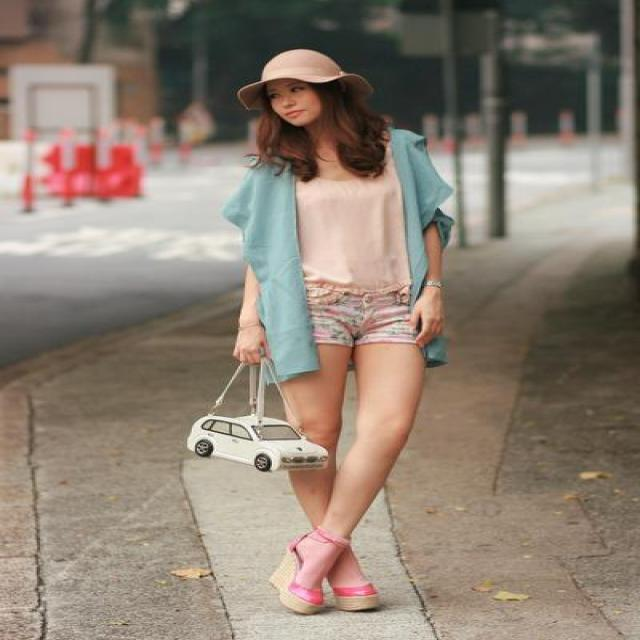bag: (196, 371, 326, 472)
hat: (256, 50, 352, 82)
jacket: (224, 127, 462, 379)
shirt: (298, 168, 440, 294)
shoe: (268, 525, 378, 615)
shorts: (300, 277, 426, 348)
